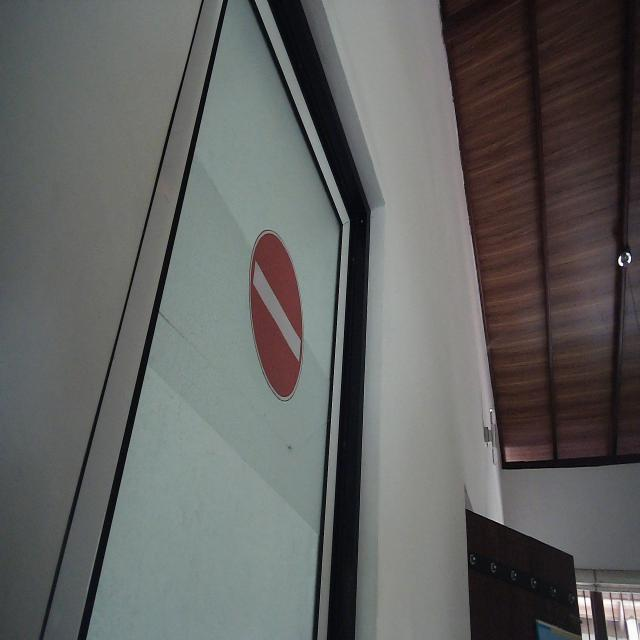no_entry: (248, 224, 306, 406)
